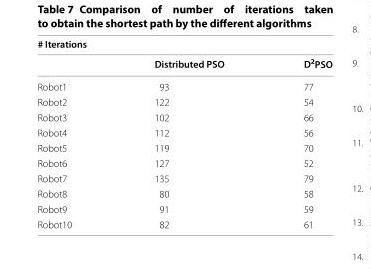table: (36, 36, 331, 229)
table column: (112, 36, 263, 229), (36, 36, 112, 229), (263, 36, 331, 229)
table column header: (36, 36, 331, 75)
table row: (36, 52, 331, 75), (36, 75, 331, 93), (36, 36, 331, 52), (36, 93, 331, 109), (36, 139, 331, 155), (36, 185, 331, 201), (36, 109, 331, 124), (36, 124, 331, 139), (36, 155, 331, 170), (36, 170, 331, 185), (36, 201, 331, 216), (36, 216, 331, 229)
table spanning cell: (36, 36, 331, 52)
